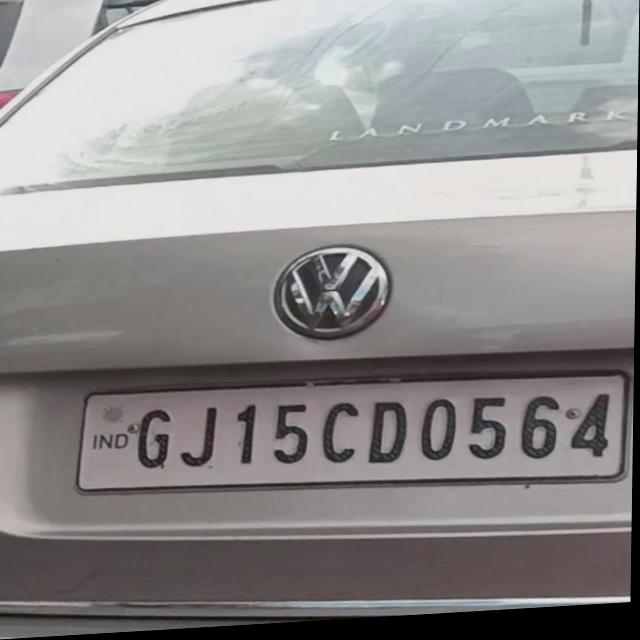0: (425, 406, 460, 468)
1: (235, 408, 265, 471)
4: (575, 401, 614, 466)
5: (471, 397, 512, 467), (273, 404, 314, 471)
6: (524, 403, 559, 469)
c: (324, 405, 362, 469)
d: (370, 406, 408, 469)
g: (137, 411, 175, 476)
j: (182, 410, 226, 473)
